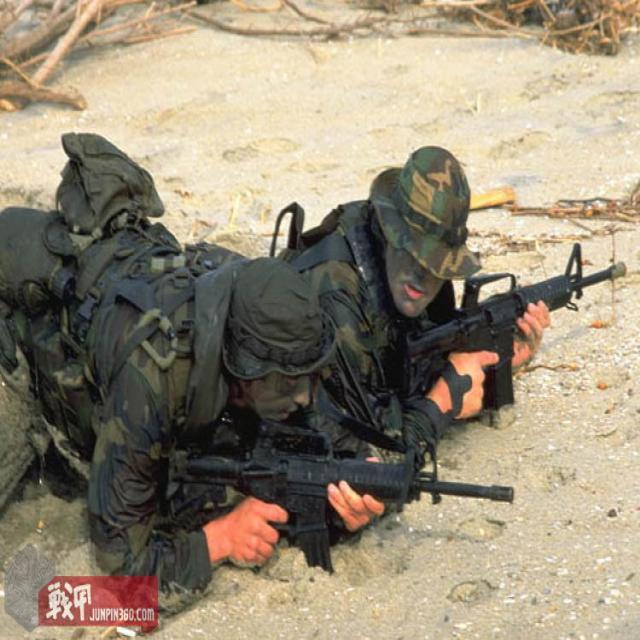m16: (390, 212, 630, 428)
